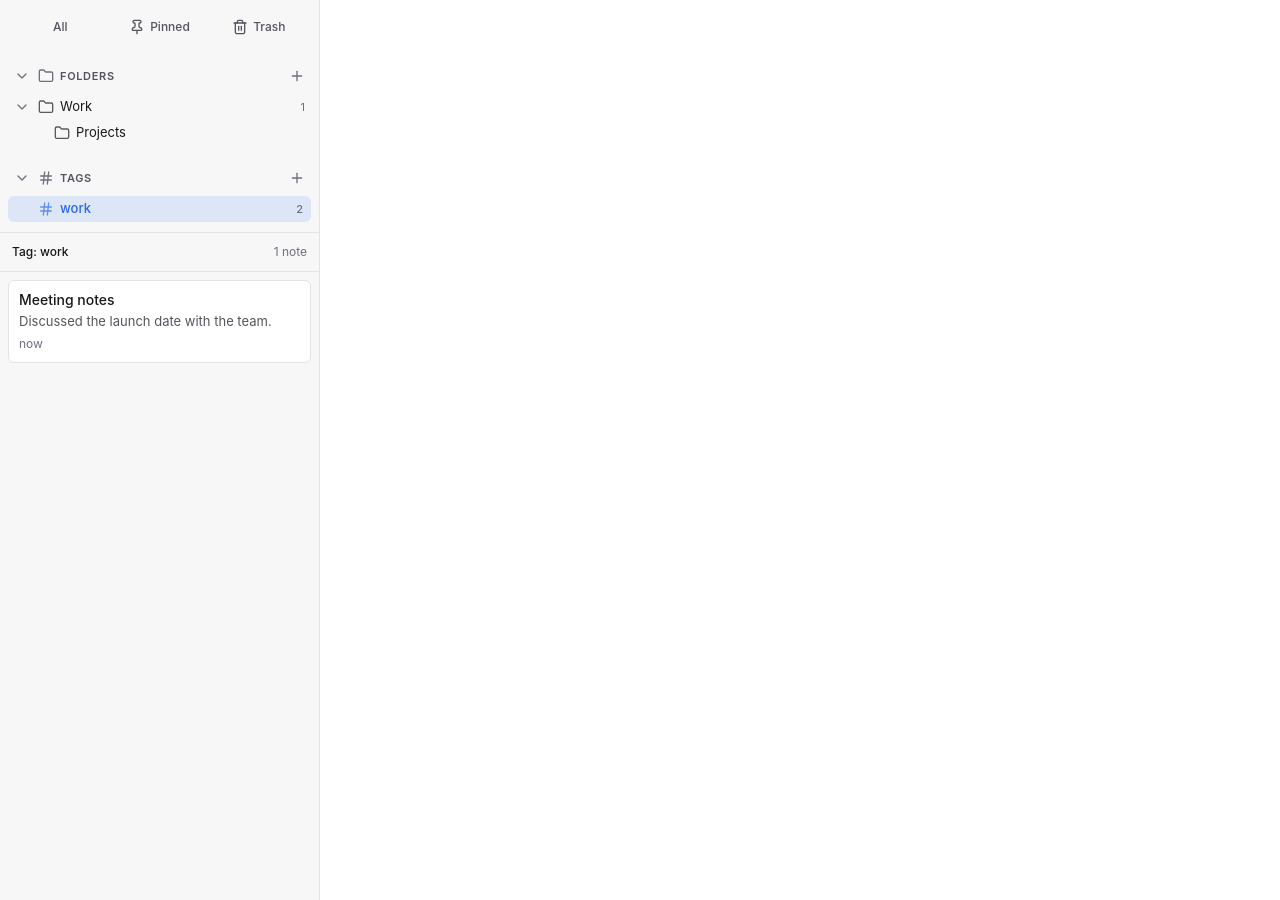
Test case: Sidebar › deletes a tag from its row menu after confirming the count
Right-click the element with test id "tag-row" at (160, 209), box x1=8 y1=196 x2=311 y2=222
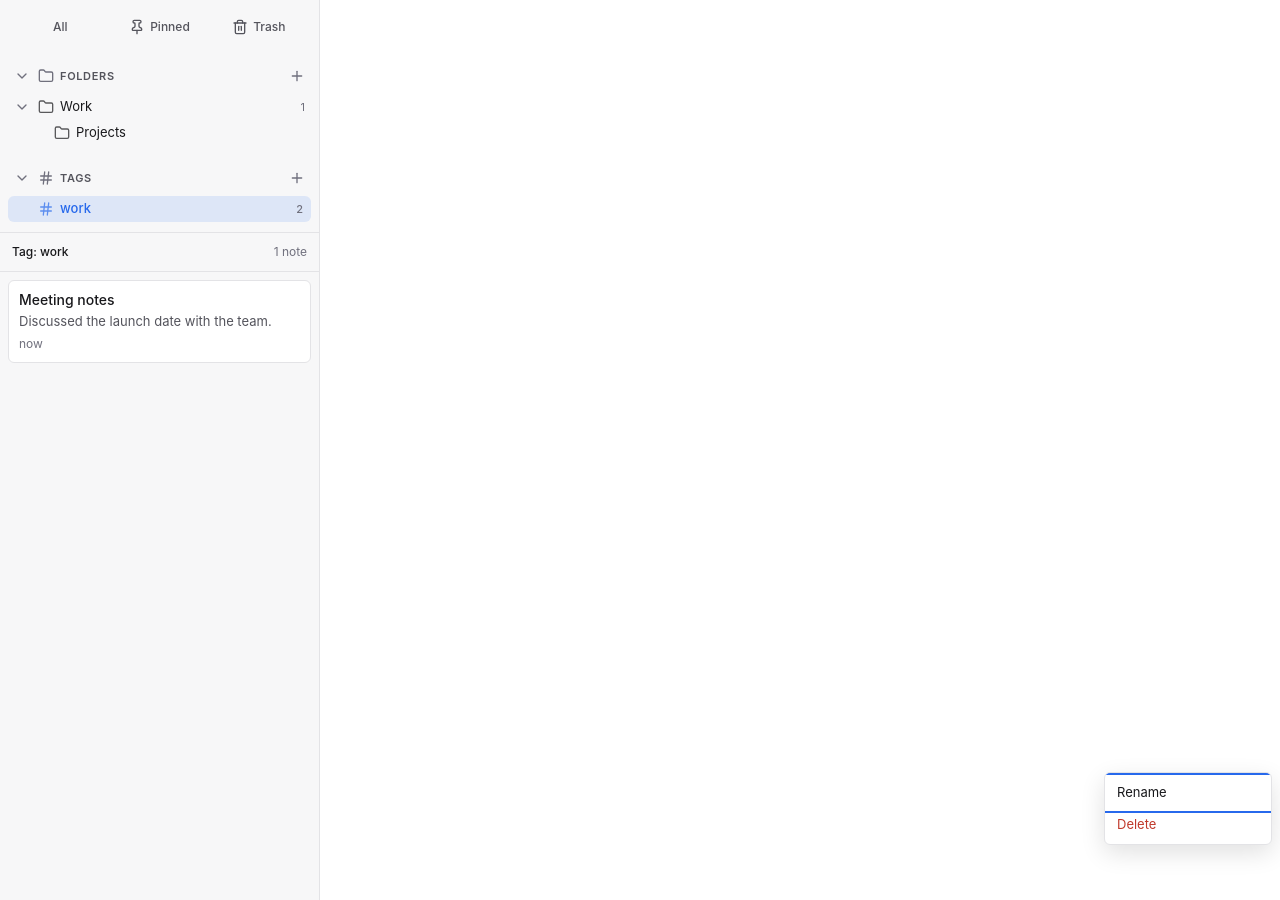
Click the menu item with test id "tag-menu-delete" at (1188, 824), box x1=1105 y1=808 x2=1271 y2=840
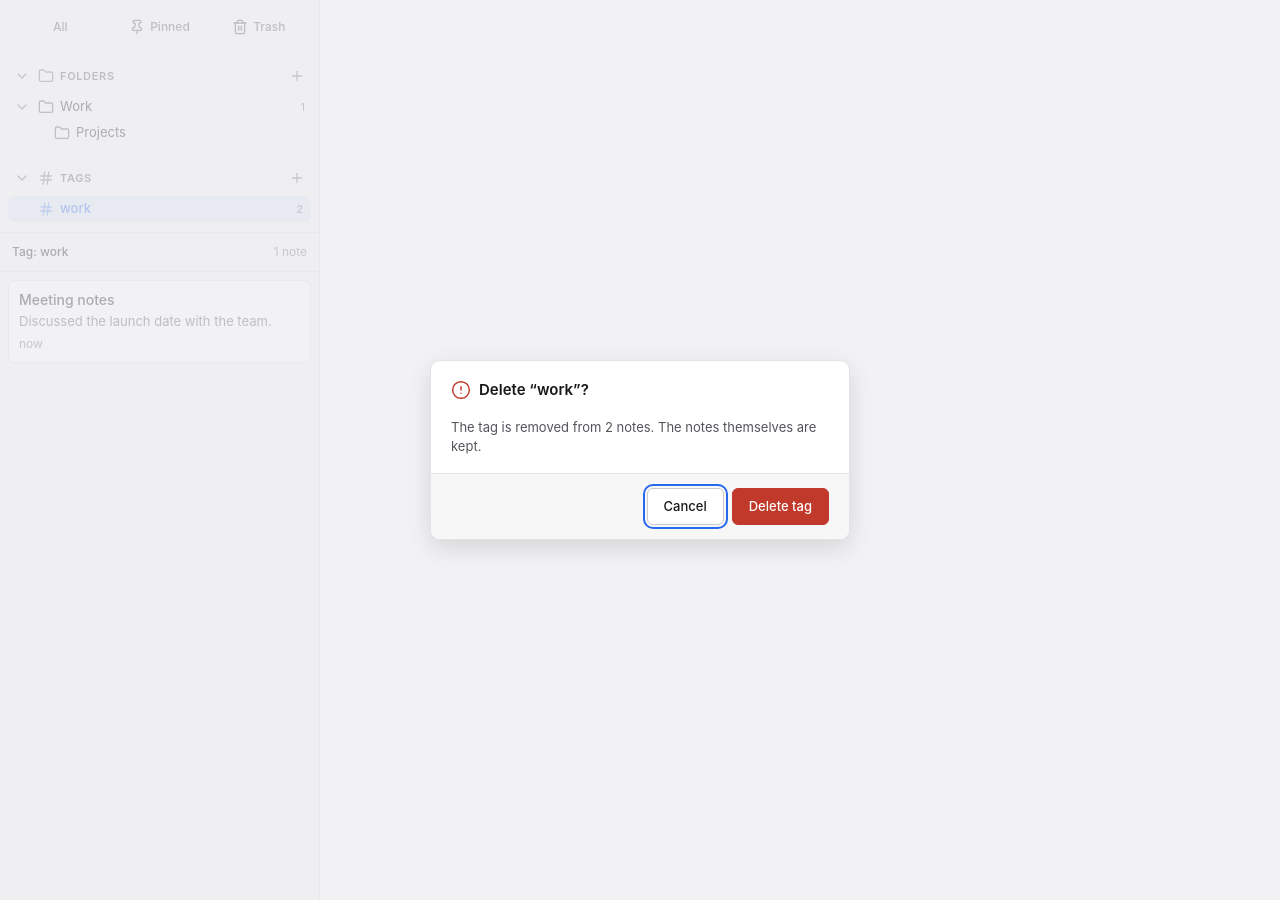
expect the heading "Delete “work”?" is shown: met, box x1=479 y1=379 x2=589 y2=402
expect the text "removed from 2 notes" is shown: met, box x1=451 y1=418 x2=816 y2=454
Click the button "Delete tag" at (780, 506), box x1=732 y1=488 x2=829 y2=525
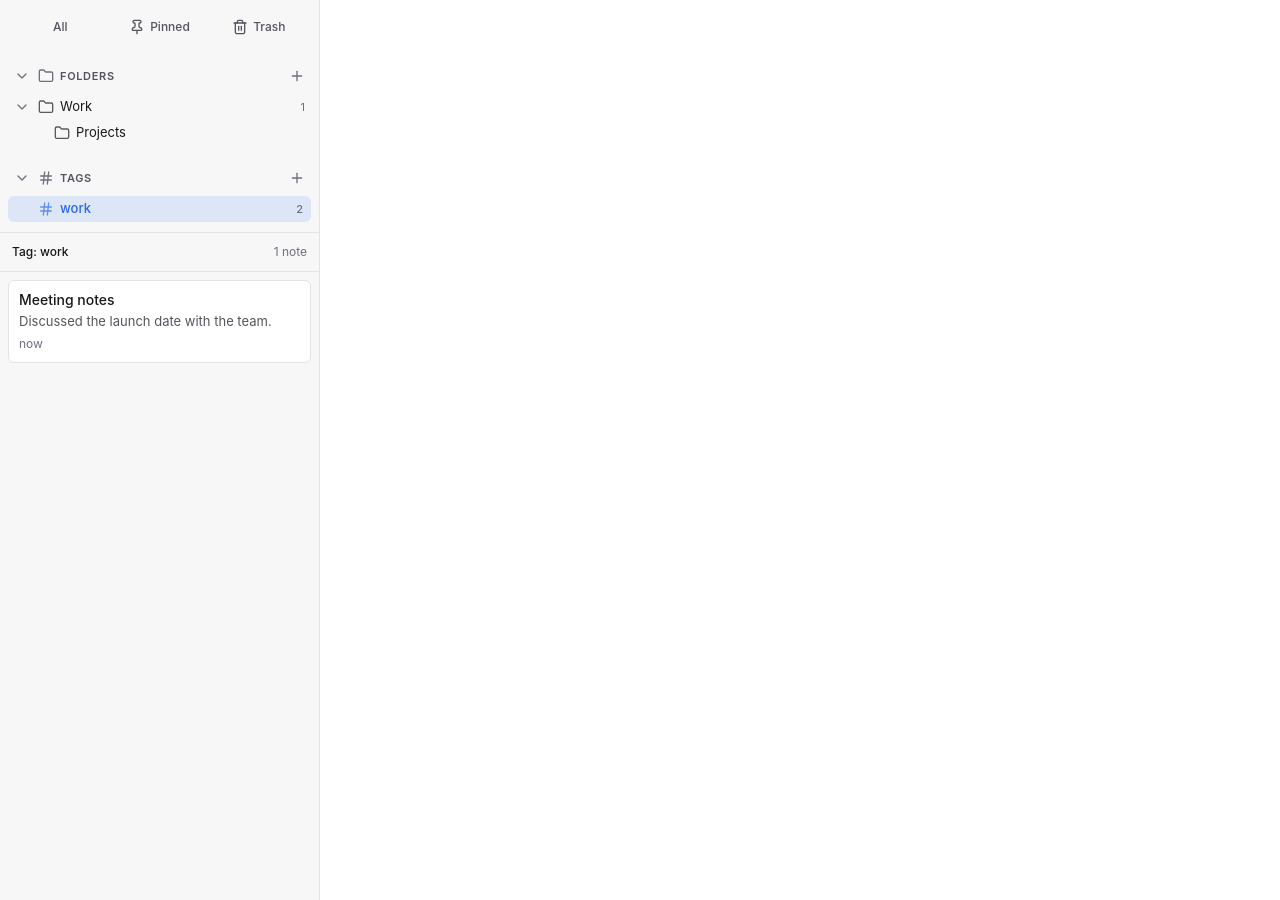
expect the heading "Delete “work”?" is gone: met
